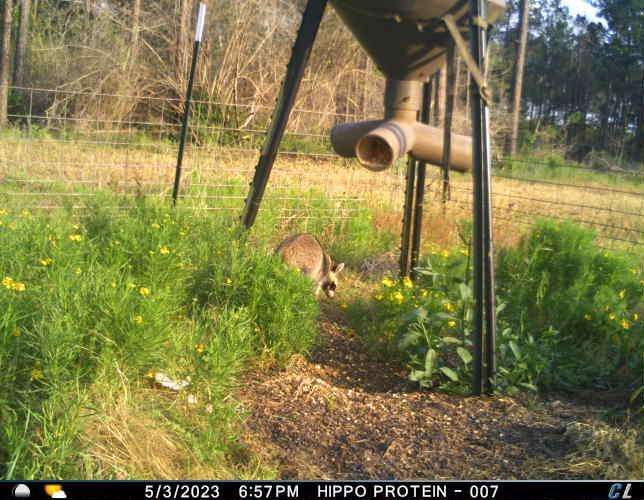Raccoon: (275, 227, 346, 303)
